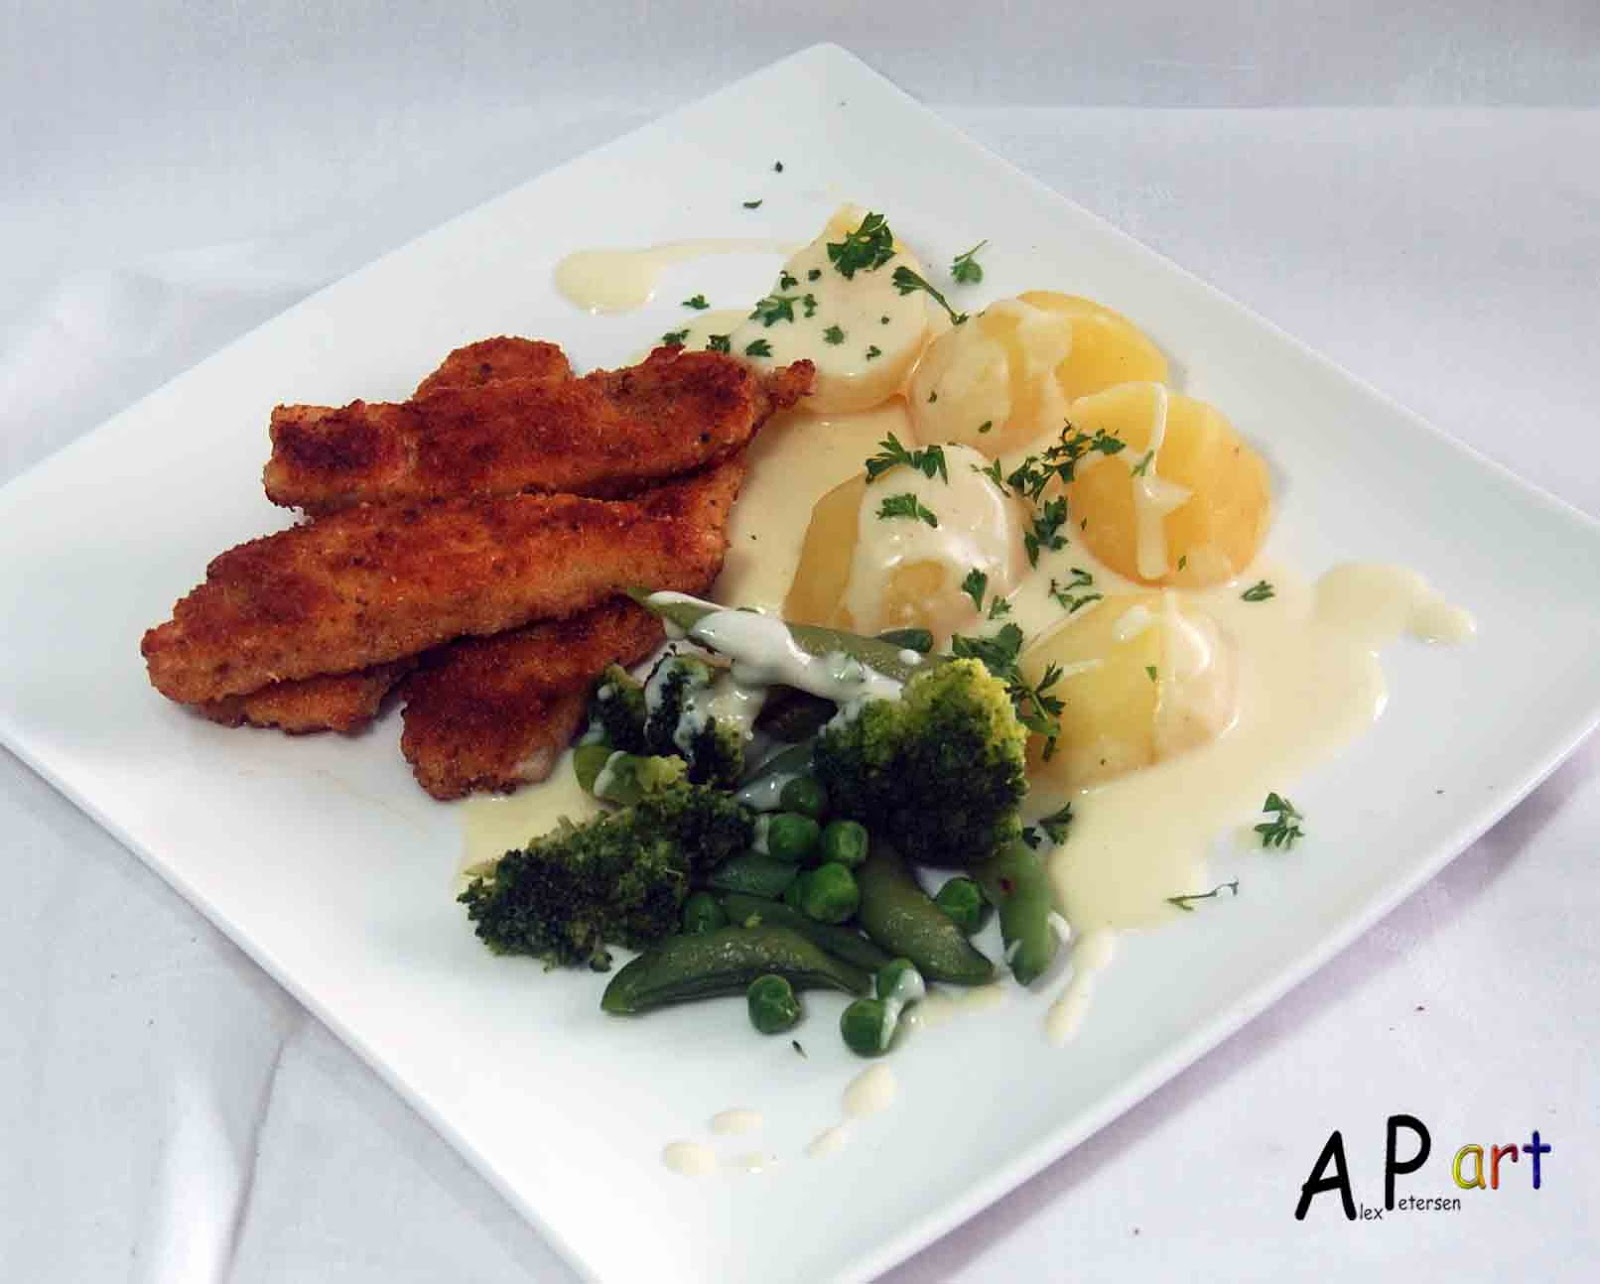boiled peas: (717, 797, 999, 1048)
boiled potatoes: (731, 236, 1312, 770)
